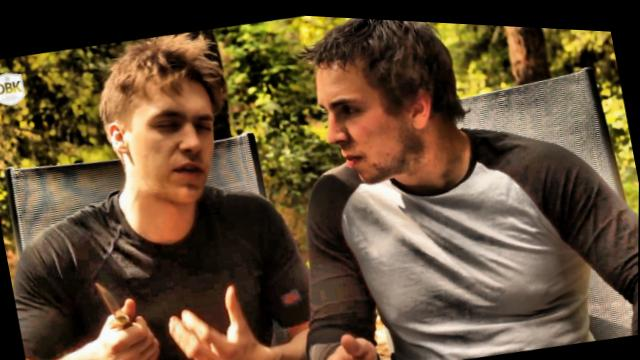knife: (74, 257, 166, 360)
